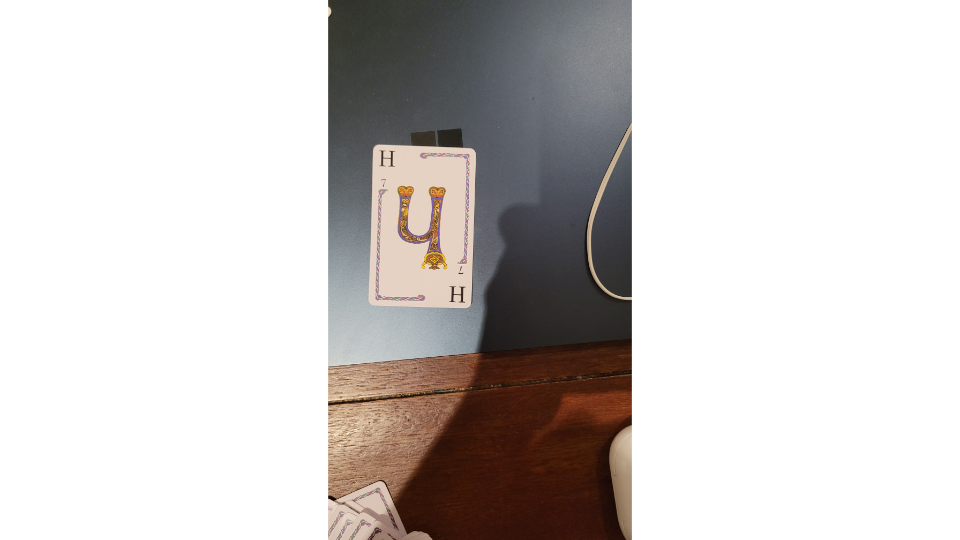H: (364, 140, 478, 313)
